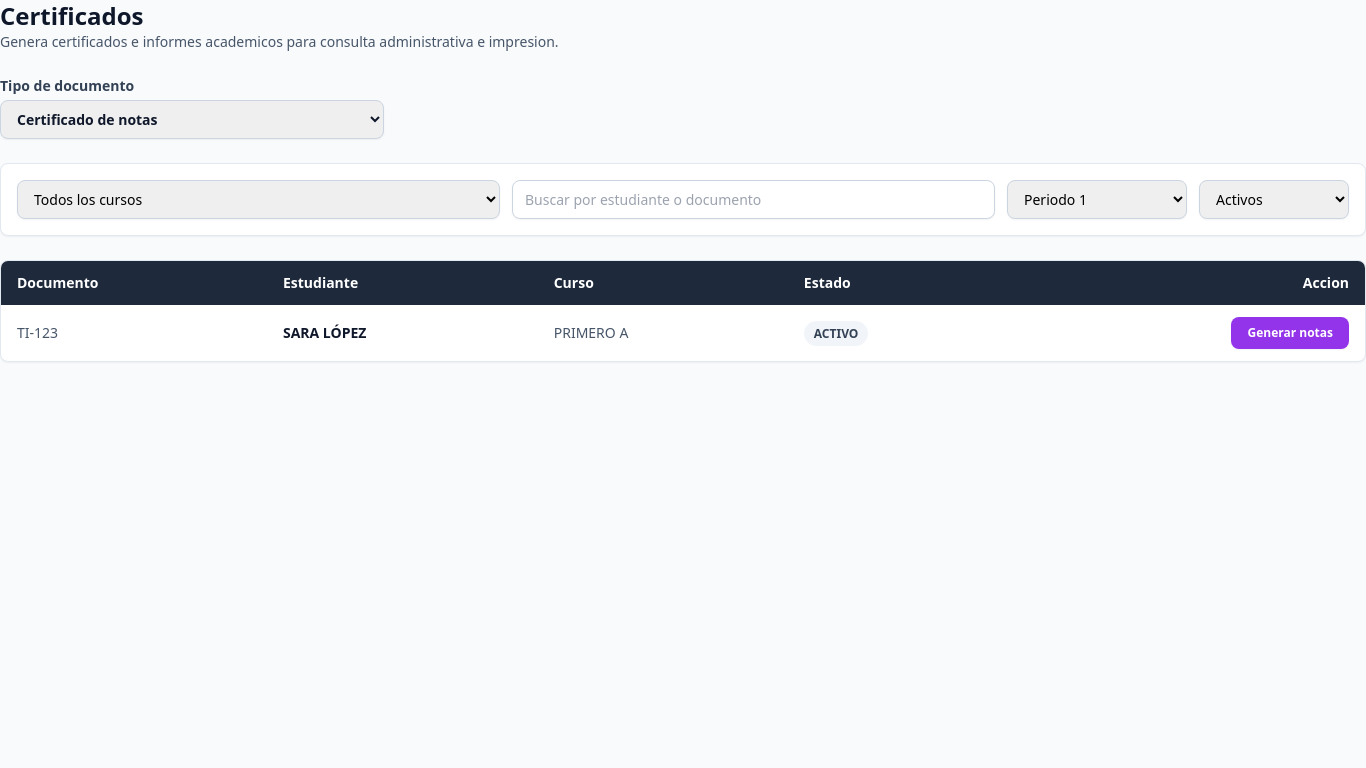
Certificados con todos los estados (paso 6.10) › con el año cerrado, la conducta dice «cursó» y la matrícula «estuvo matriculado»; la ficha va sin año
The width and height of the screenshot is (1366, 768).
Check: the text "TI-123" is shown, box [1,305,267,361]
Select "Certificado de conducta" in the dropdown labelled "Tipo de documento" at x=192, y=120, box [0,100,384,139]
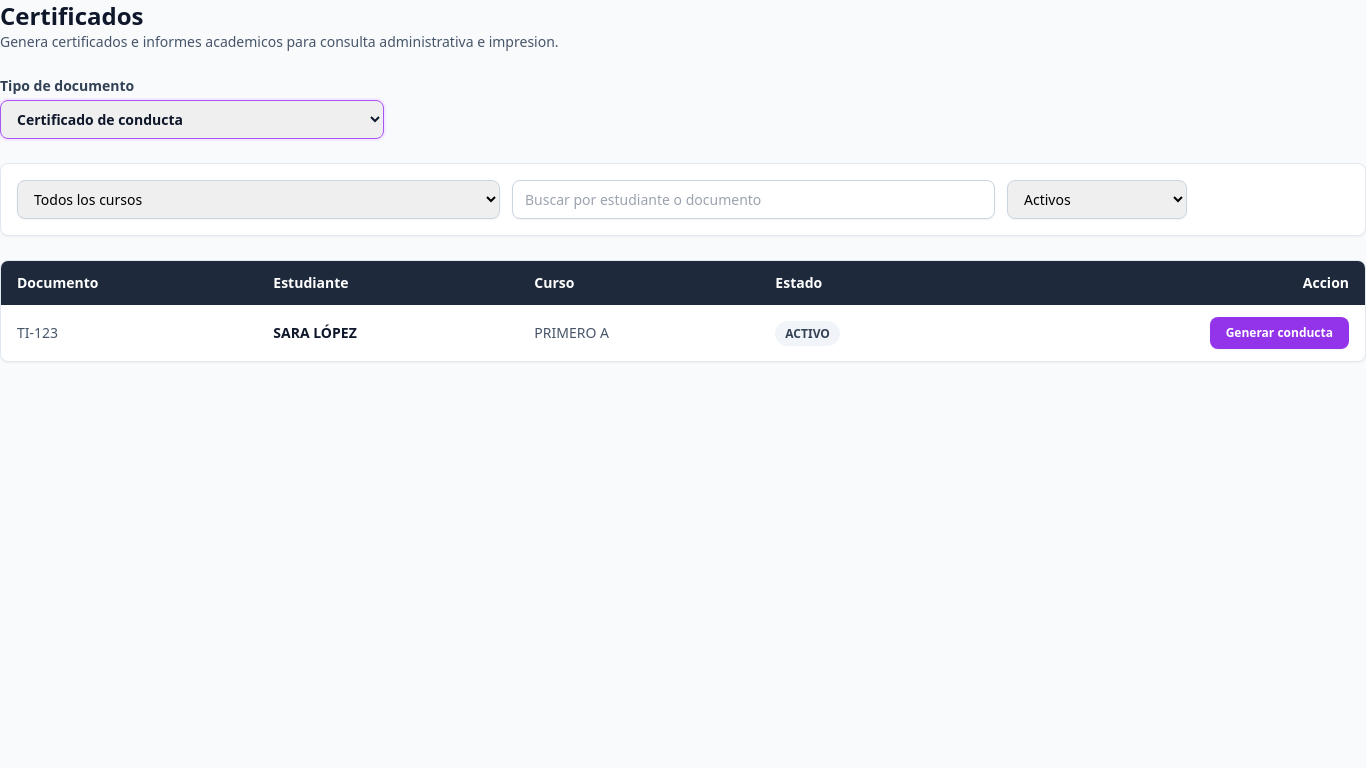
Click the button "Generar conducta".
click(1279, 333)  # box [1210,317,1349,349]
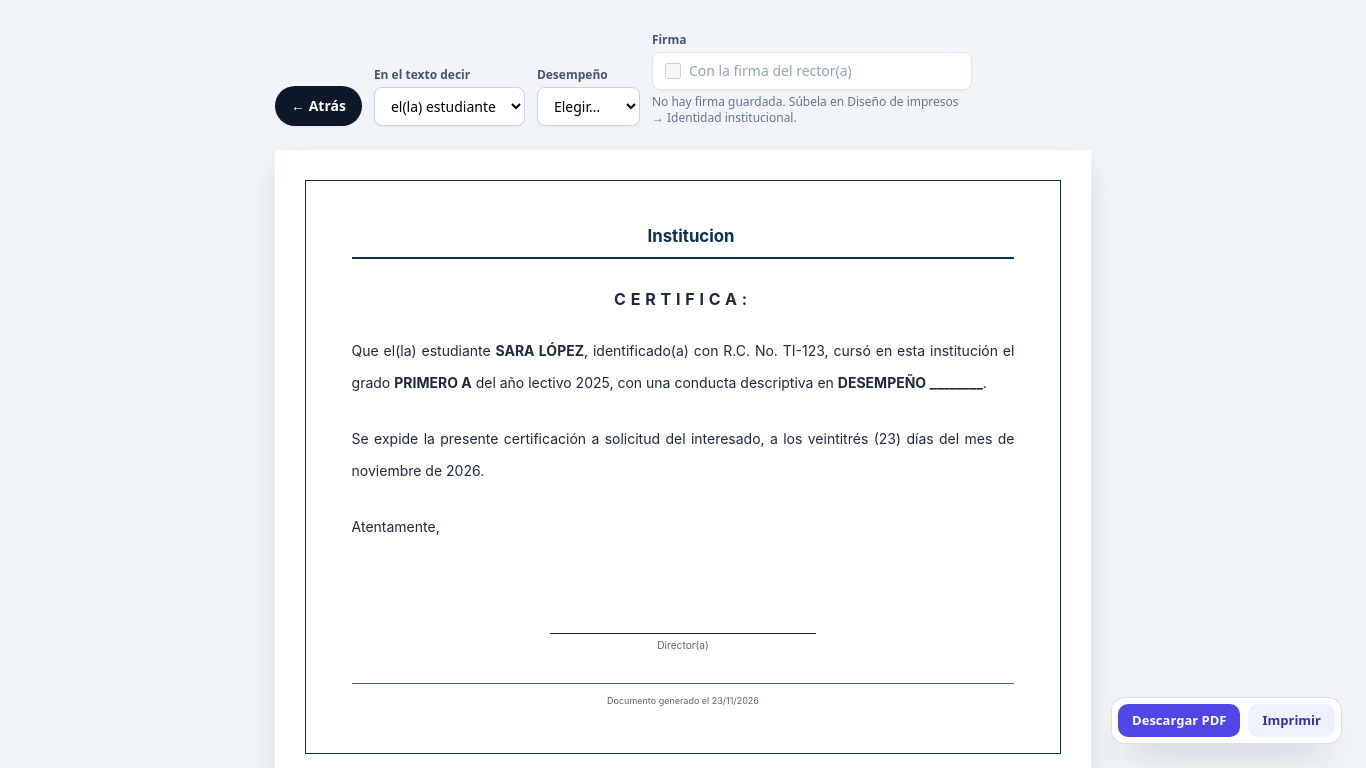
Check: the text "CERTIFICA:" is shown, box [614,289,752,309]
Click the button "← Atrás".
click(318, 106)  # box [275,86,362,126]
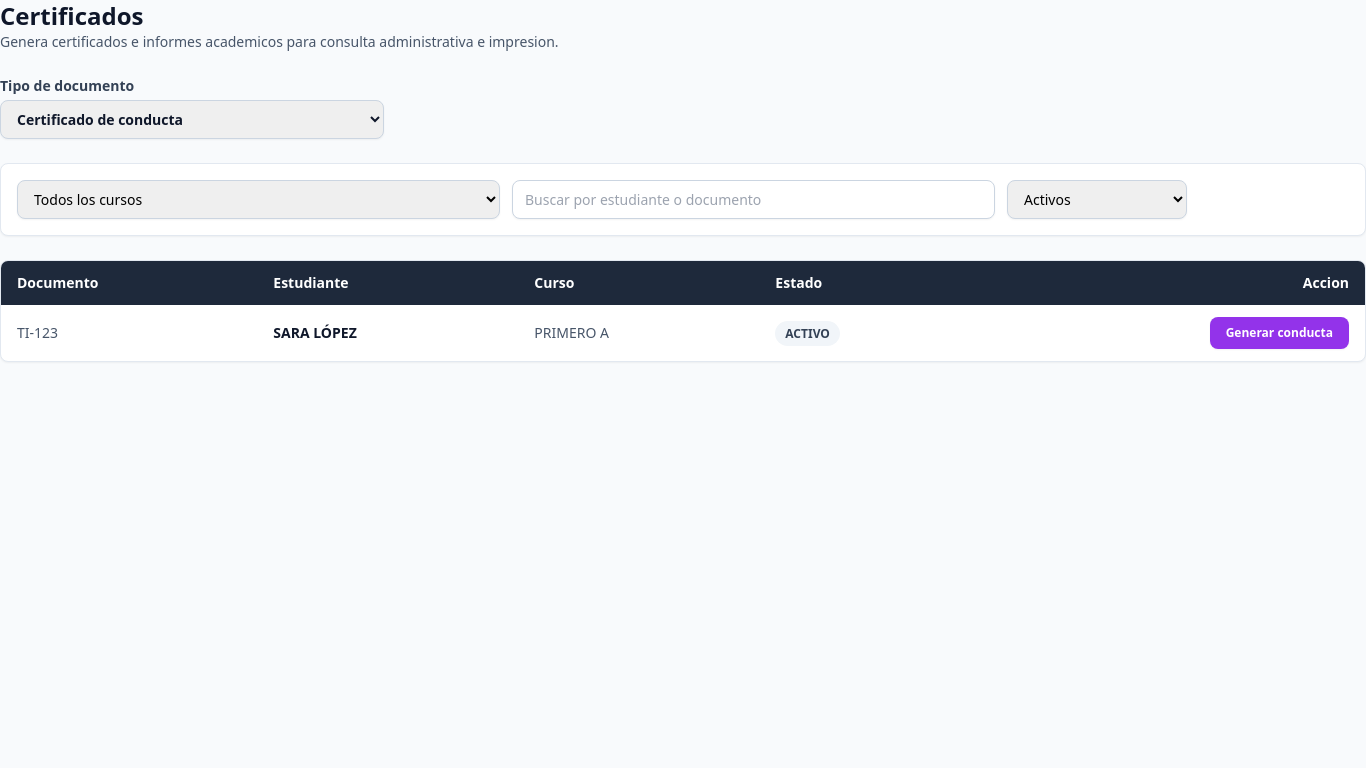
Select "Certificado de matrícula" in the dropdown labelled "Tipo de documento" at x=192, y=120, box [0,100,384,139]
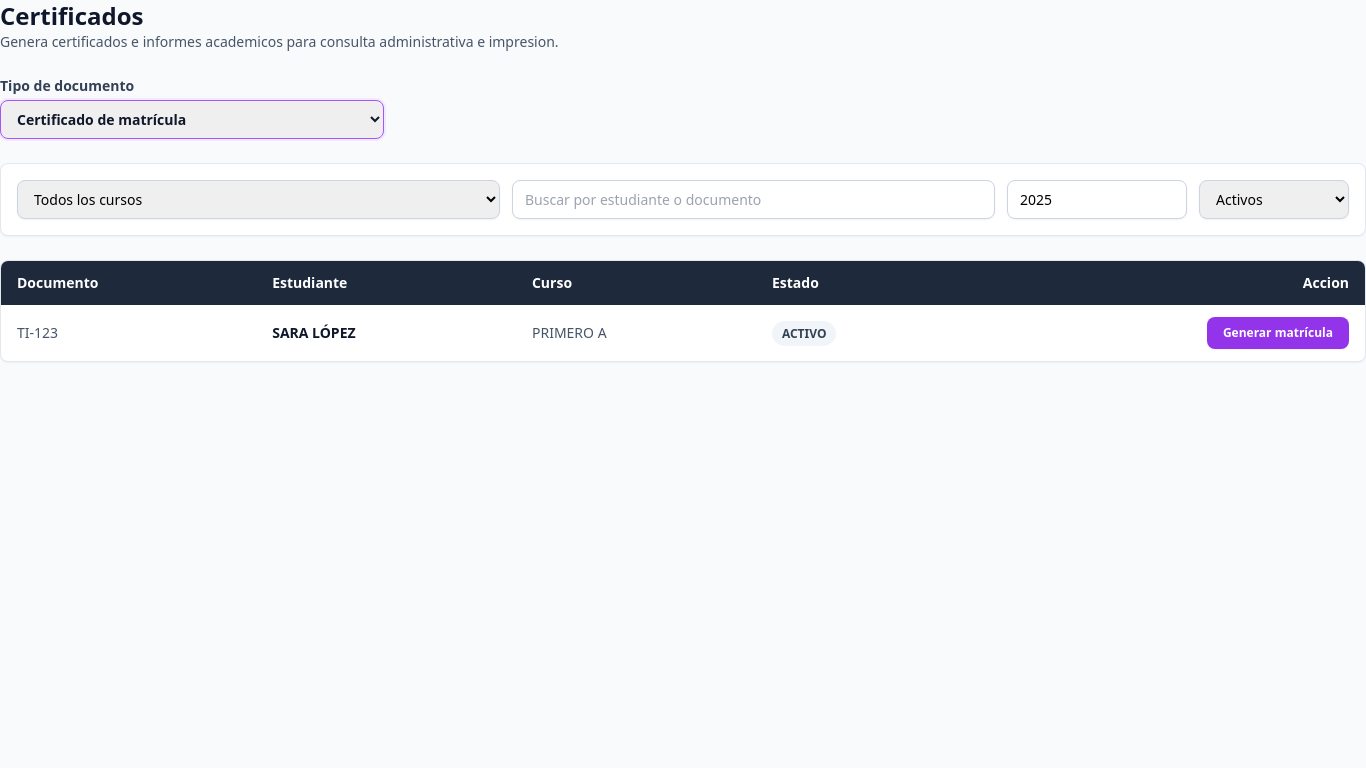
Click the button "Generar matrícula".
click(1278, 333)  # box [1207,317,1349,349]
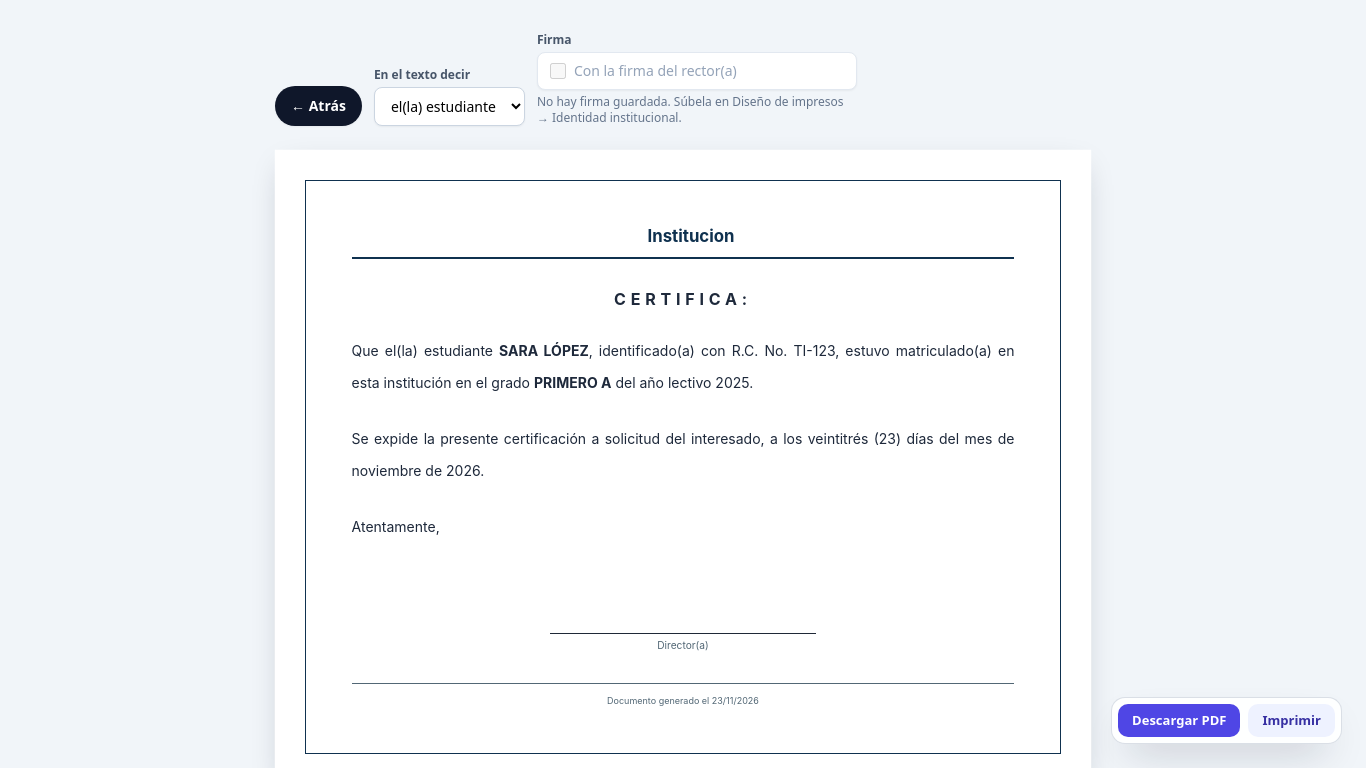
Check: the text "CERTIFICA:" is shown, box [614,289,752,309]
